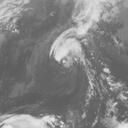cyclone: (48, 27, 87, 67)
